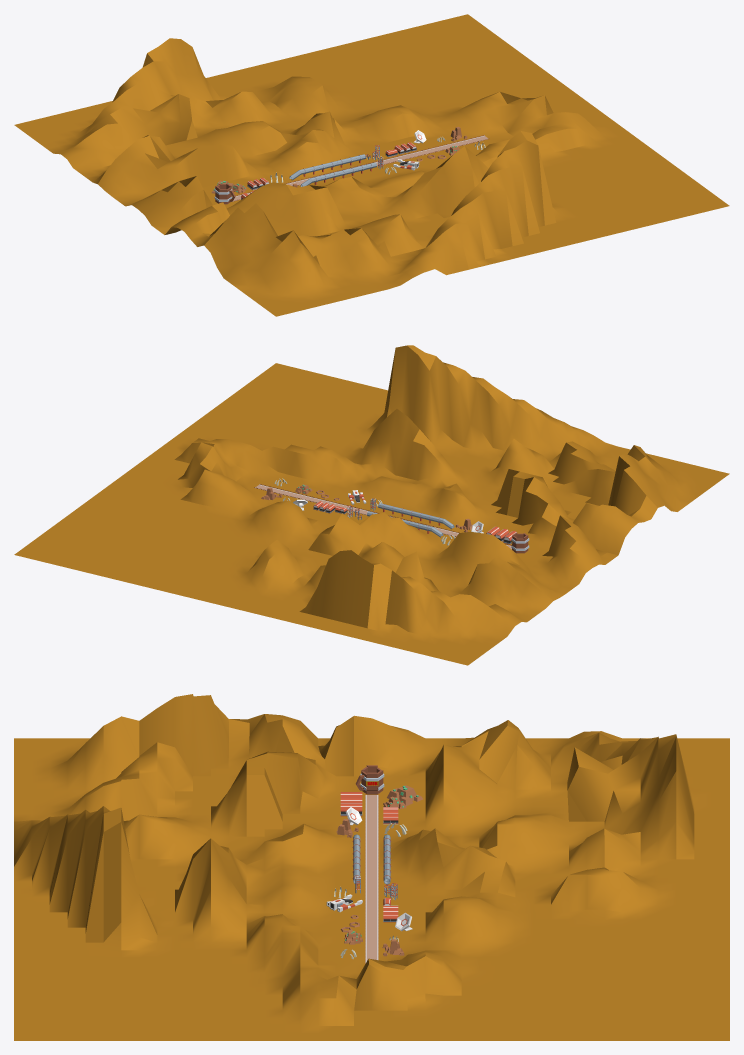
The model's file is level-desert.fbx.
The picture shows the model from 3 angles, top to bottom: view 1: azimuth 30°, elevation 25°; view 2: azimuth 150°, elevation 25°; view 3: azimuth 270°, elevation 25°; orthographic projection. The views are drawn at different scales.
Visible parts, largest first — view 1: ground, pipes_1, roadStraight_1; view 2: ground, pipes_1, roadStraight_1, buildings_1; view 3: ground, roadStraight_1, rocks_1, buildings_1, pipes_1.
Part boxes in pixels (x1,y1,x2,y2): ground: [14, 14, 729, 316]; pipes_1: [289, 154, 376, 186]; roadStraight_1: [232, 135, 489, 201]; ground: [14, 345, 729, 665]; pipes_1: [367, 503, 454, 537]; roadStraight_1: [254, 484, 511, 549]; buildings_1: [313, 501, 516, 544]; ground: [14, 694, 729, 1040]; roadStraight_1: [364, 795, 379, 965]; rocks_1: [336, 785, 422, 956]; buildings_1: [340, 792, 398, 922]; pipes_1: [352, 834, 391, 885].
Size of the model in its own units: 29997 by 5701 by 29940.
